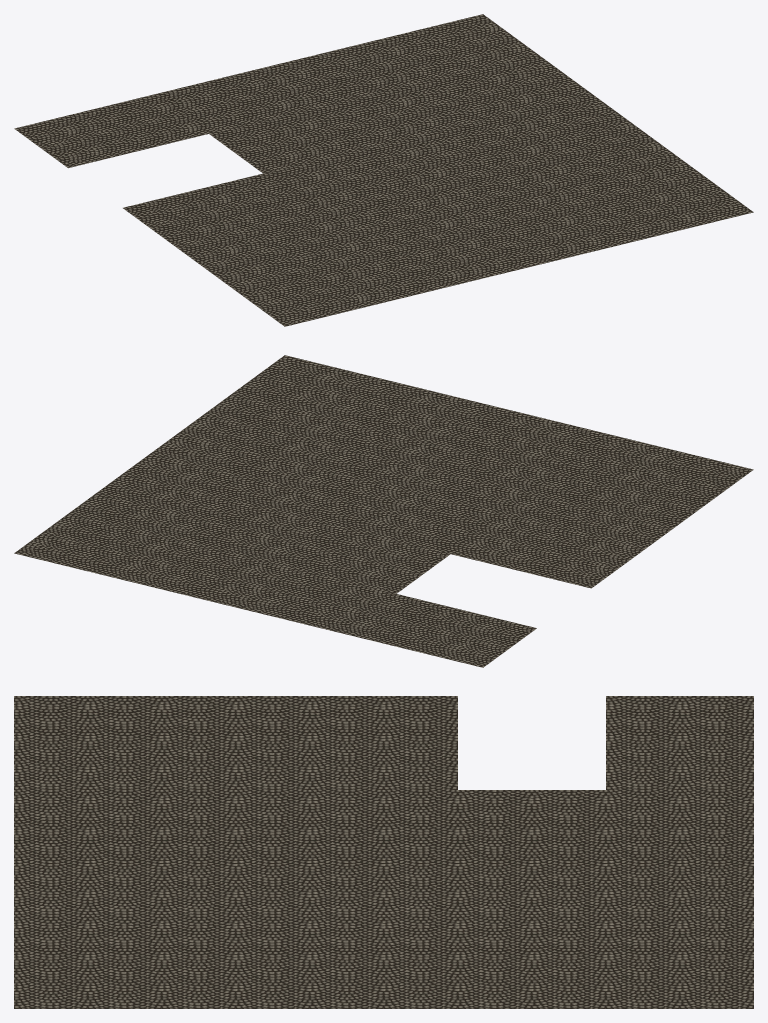
Rendered from Plane_pups.fbx.
3 views of the same model, one above another, from view 1: azimuth 30°, elevation 25°; view 2: azimuth 150°, elevation 25°; view 3: azimuth 270°, elevation 25° (orthographic). The views are drawn at different scales.
Parts seen in each view (by area): view 1: Plane; view 2: Plane; view 3: Plane.
Part boxes in pixels (x1,y1,x2,y2): Plane: [14, 14, 753, 326]; Plane: [14, 355, 753, 667]; Plane: [14, 696, 753, 1008].
Size of the model in its own units: 500 by 500 by 0.
